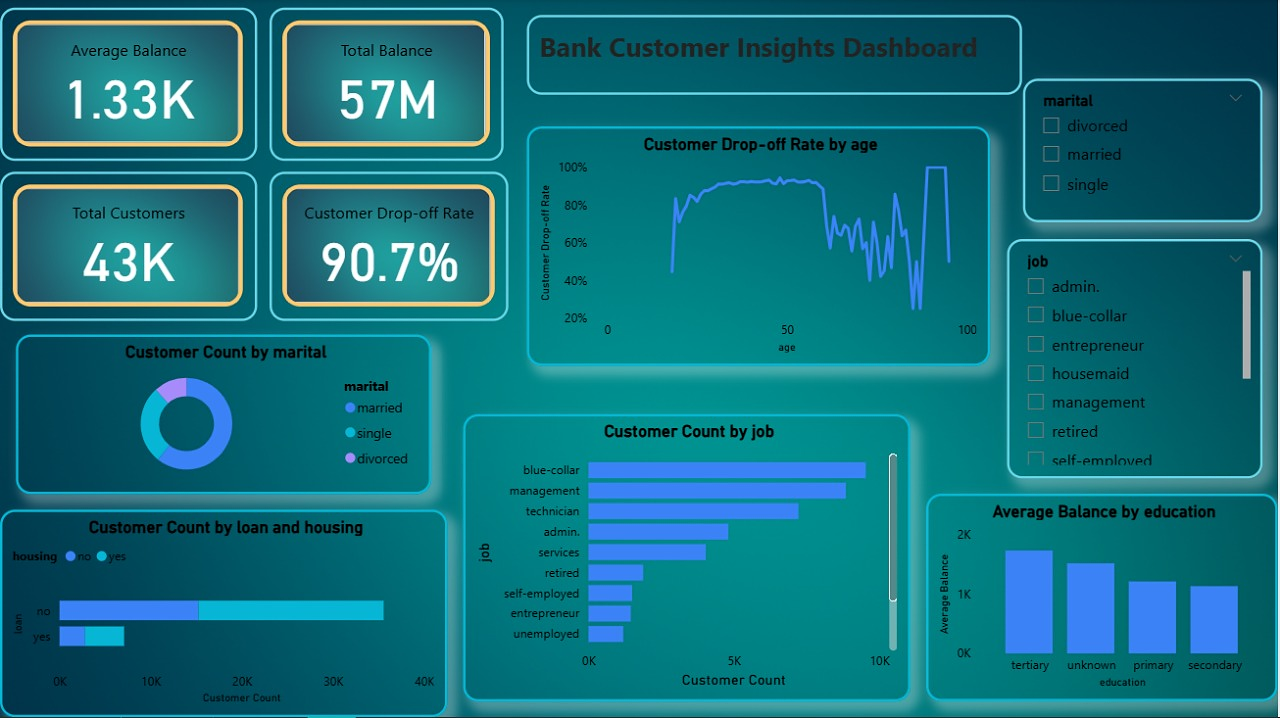

The page's visual inventory and layout, read from the dashboard file:
{"tool":"powerbi","page":{"name":"Page 1","canvas":[1280,720],"ordinal":0},"visuals":[{"type":"cardVisual","fields":{"Data":["BankCustomerData.Average Balance"]},"box":[0,8.6,257.7,153.4],"z":0},{"type":"cardVisual","fields":{"Data":["BankCustomerData.Customer Drop-off Rate"]},"box":[269.9,173,239.3,149.7],"z":1000},{"type":"cardVisual","fields":{"Data":["BankCustomerData.Total Balance"]},"box":[269.9,8.6,234.4,153.4],"z":2000},{"type":"cardVisual","fields":{"Data":["BankCustomerData.Total Customers"]},"box":[0,173,257.7,149.7],"z":3000},{"type":"clusteredColumnChart","fields":{"Category":["BankCustomerData.education"],"Y":["BankCustomerData.Average Balance"]},"box":[928,496,352,208],"z":4000},{"type":"donutChart","fields":{"Category":["BankCustomerData.marital"],"Y":["BankCustomerData.Customer Count"]},"box":[16,336,416,160],"z":5000},{"type":"barChart","fields":{"Category":["BankCustomerData.loan"],"Series":["BankCustomerData.housing"],"Y":["BankCustomerData.Customer Count"]},"box":[0,512,448,208],"z":6000},{"type":"lineChart","fields":{"Category":["BankCustomerData.age"],"Y":["BankCustomerData.Customer Drop-off Rate"]},"box":[528,128,464,240],"z":7000},{"type":"clusteredBarChart","fields":{"Category":["BankCustomerData.job"],"Y":["BankCustomerData.Customer Count"]},"box":[464,416,448,288],"z":8000},{"type":"slicer","fields":{"Values":["BankCustomerData.job"]},"box":[1008,240,256,240],"z":9000},{"type":"slicer","fields":{"Values":["BankCustomerData.marital"]},"box":[1024,80,240,144],"z":10000},{"type":"textbox","box":[528,16,496,80],"z":11000}]}

Visuals, with their boxes in screenshot pixels (x1, y1, x2, y2), scaled from the page's 1280x720 canvas onto the 1280x718 screenshot:
cardVisual - BankCustomerData.Average Balance: left=0, top=9, right=258, bottom=162
cardVisual - BankCustomerData.Customer Drop-off Rate: left=270, top=173, right=509, bottom=322
cardVisual - BankCustomerData.Total Balance: left=270, top=9, right=504, bottom=162
cardVisual - BankCustomerData.Total Customers: left=0, top=173, right=258, bottom=322
clusteredColumnChart - BankCustomerData.education x BankCustomerData.Average Balance: left=928, top=495, right=1279, bottom=702
donutChart - BankCustomerData.marital x BankCustomerData.Customer Count: left=16, top=335, right=432, bottom=495
barChart - BankCustomerData.loan x BankCustomerData.housing: left=0, top=511, right=448, bottom=717
lineChart - BankCustomerData.age x BankCustomerData.Customer Drop-off Rate: left=528, top=128, right=992, bottom=367
clusteredBarChart - BankCustomerData.job x BankCustomerData.Customer Count: left=464, top=415, right=912, bottom=702
slicer - BankCustomerData.job: left=1008, top=239, right=1264, bottom=479
slicer - BankCustomerData.marital: left=1024, top=80, right=1264, bottom=223
textbox: left=528, top=16, right=1024, bottom=96
